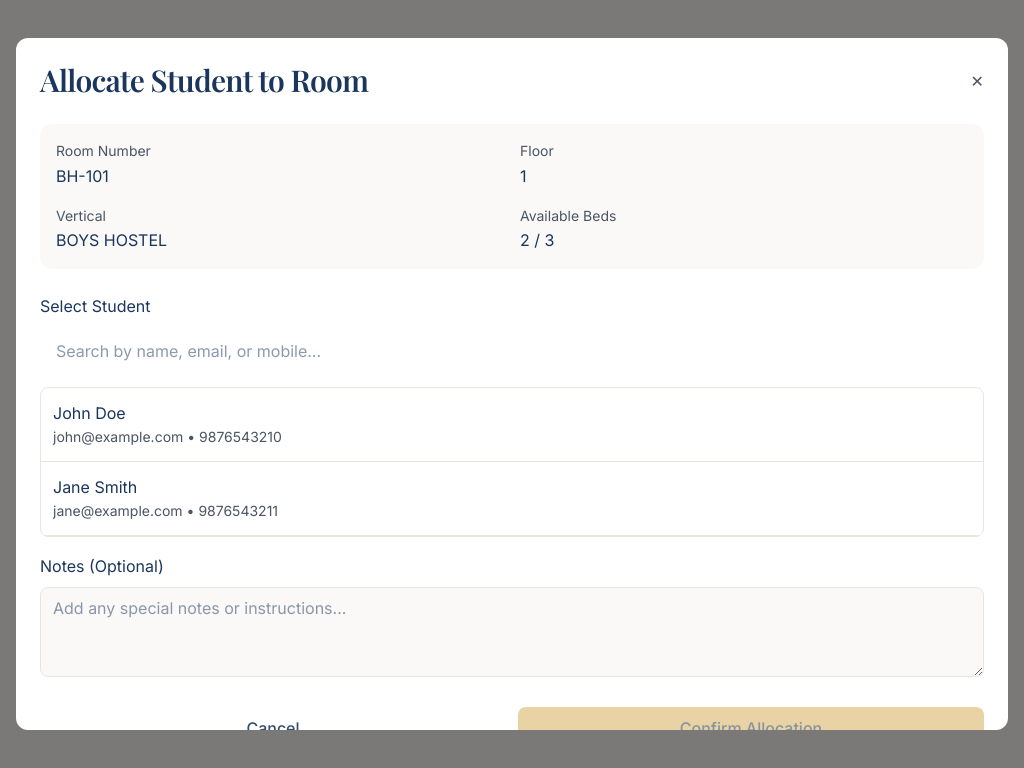
Test: Task 17 - Allocation Modal › 17.16 - should allow searching for students
Expected: the text "John Doe" is shown, left=53, top=403, right=126, bottom=423
Type "jane" into the field with placeholder "Search by name, email, or mobile..." at (512,351), box left=40, top=327, right=984, bottom=375
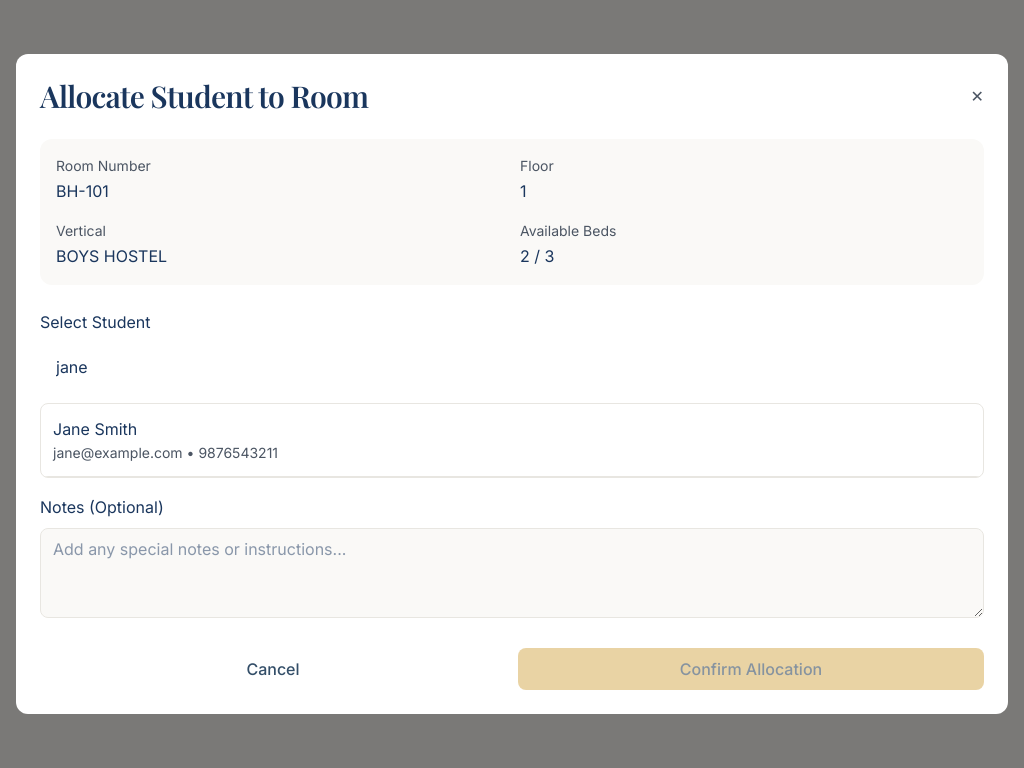
Expected: the text "Jane Smith" is shown, left=53, top=419, right=137, bottom=439
Expected: the button "John Doe" is gone
